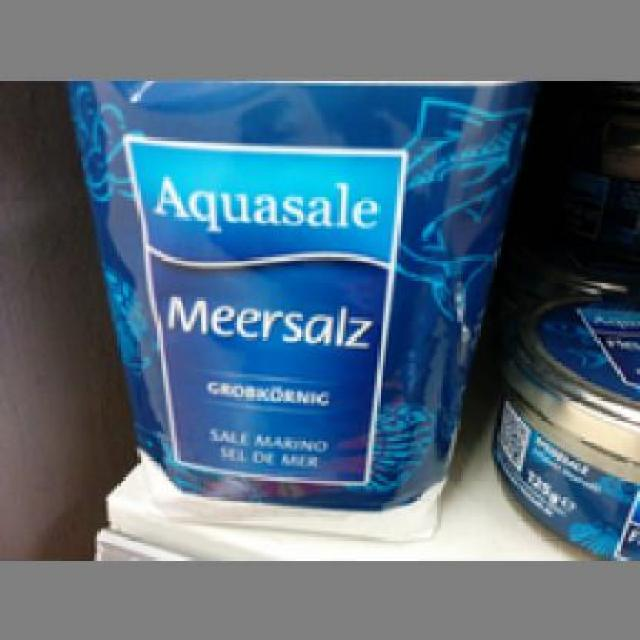Spices: (62, 80, 528, 509)
